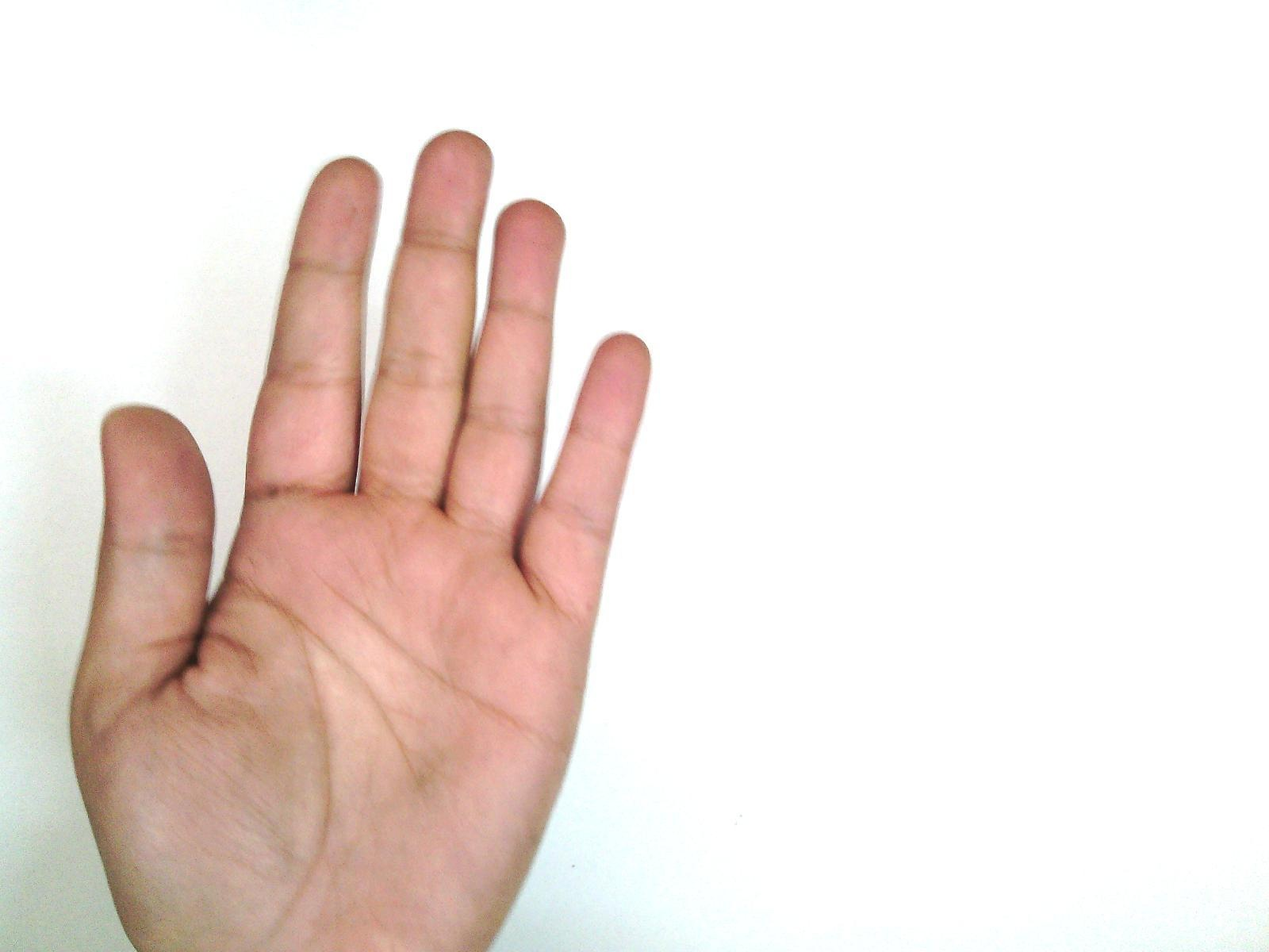open_palm: (67, 129, 656, 951)
